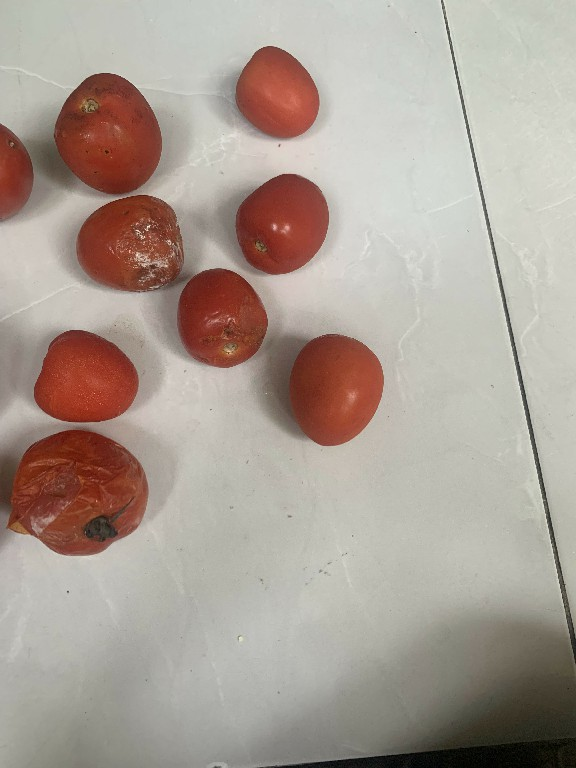NG: (0, 426, 156, 567), (42, 62, 176, 194), (71, 185, 188, 294), (175, 257, 270, 368)
OK: (278, 326, 390, 456), (29, 324, 165, 431), (230, 166, 340, 282), (227, 38, 325, 143)
